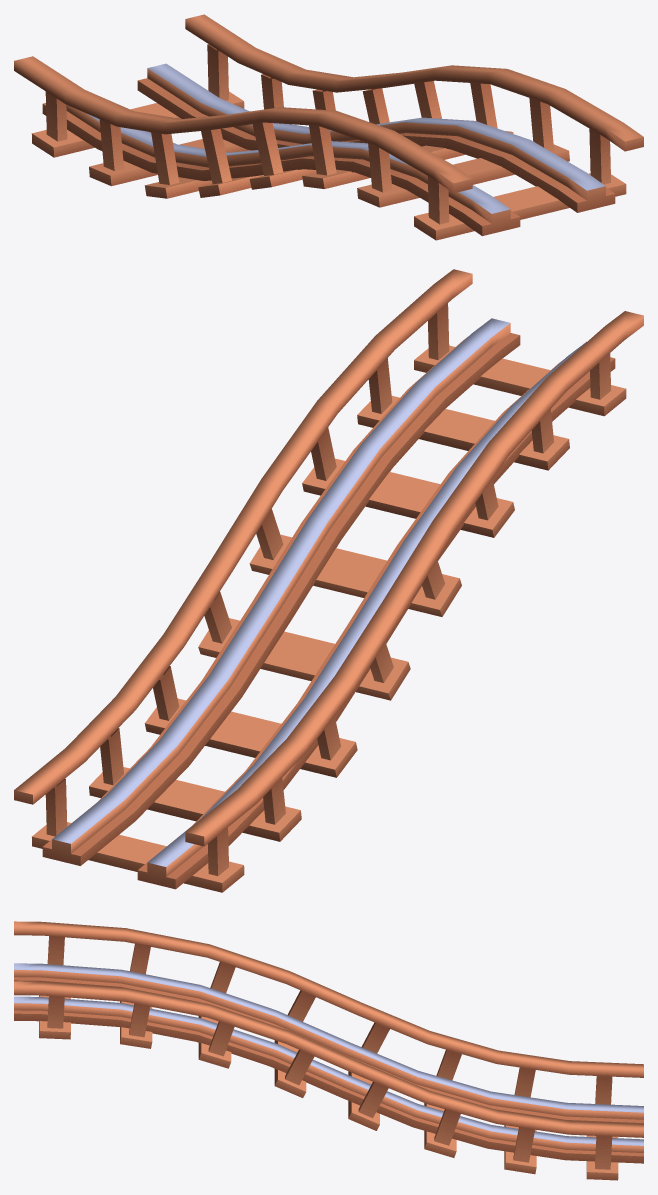
File: coaster-wood-straight-hill-complete.glb
3 views of the same model, one above another, from view 1: azimuth 30°, elevation 25°; view 2: azimuth 150°, elevation 25°; view 3: azimuth 270°, elevation 25° (orthographic). The views are drawn at different scales.
Parts seen in each view (by area): view 1: coaster-wood-straight-hill-complete; view 2: coaster-wood-straight-hill-complete; view 3: coaster-wood-straight-hill-complete.
Part boxes in pixels (bbox=[...]): coaster-wood-straight-hill-complete: bbox=[14, 14, 643, 240]; coaster-wood-straight-hill-complete: bbox=[14, 269, 643, 892]; coaster-wood-straight-hill-complete: bbox=[14, 921, 643, 1180].
Size of the model in its own units: 3 by 4.05 by 12.
1 material, 1 textured.
